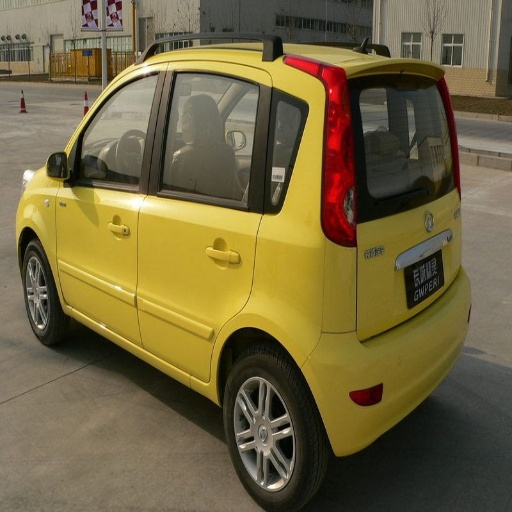back_left_door: (138, 63, 295, 380)
back_left_light: (321, 91, 356, 247)
trunk: (356, 119, 457, 335)
